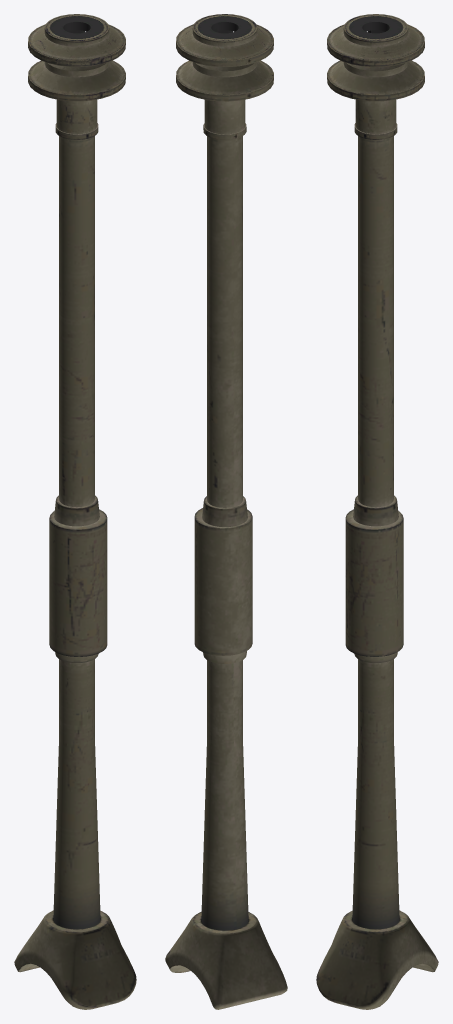
Rendered from Gun_01.glb.
The picture shows the model from 3 angles, left to right: view 1: azimuth 30°, elevation 25°; view 2: azimuth 210°, elevation 25°; view 3: azimuth 330°, elevation 25°; orthographic projection.
Parts seen in each view (by area): view 1: set_0_group_0; view 2: set_0_group_0; view 3: set_0_group_0.
Part boxes in pixels (x1,y1,x2,y2): set_0_group_0: (14, 14, 136, 1009); set_0_group_0: (165, 14, 287, 1009); set_0_group_0: (316, 14, 438, 1009).
Bounding box in the file's own units: 0.4318 × 4.66 × 0.5258.
Materials: 1 (1 with a texture image).
